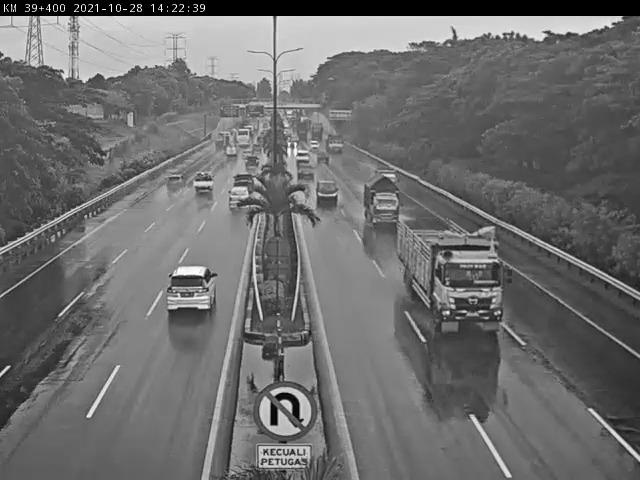big truck: (397, 224, 513, 340)
car: (166, 262, 217, 316), (315, 180, 340, 205), (192, 170, 215, 196), (227, 186, 248, 211), (233, 173, 257, 194), (165, 175, 187, 194), (295, 164, 313, 182), (317, 149, 330, 166)
small truck: (369, 189, 402, 226), (219, 131, 236, 145), (224, 142, 240, 156)
